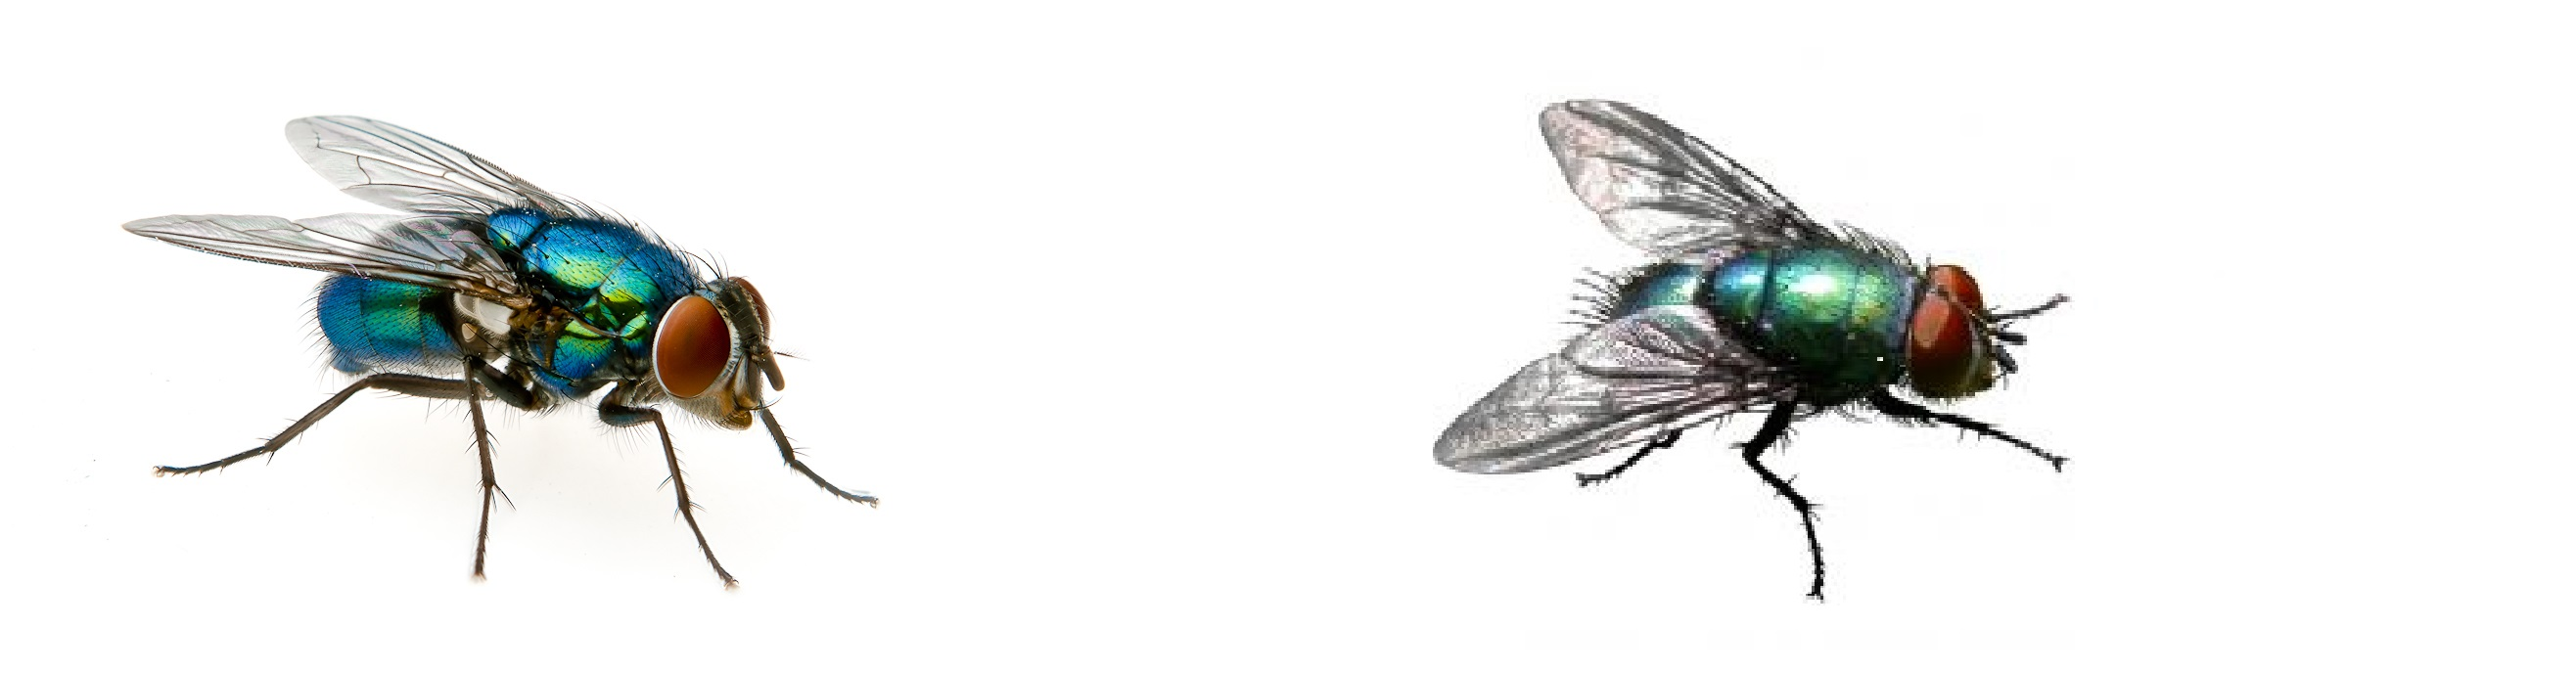house fly: (110, 98, 885, 597), (1419, 79, 2091, 612)
